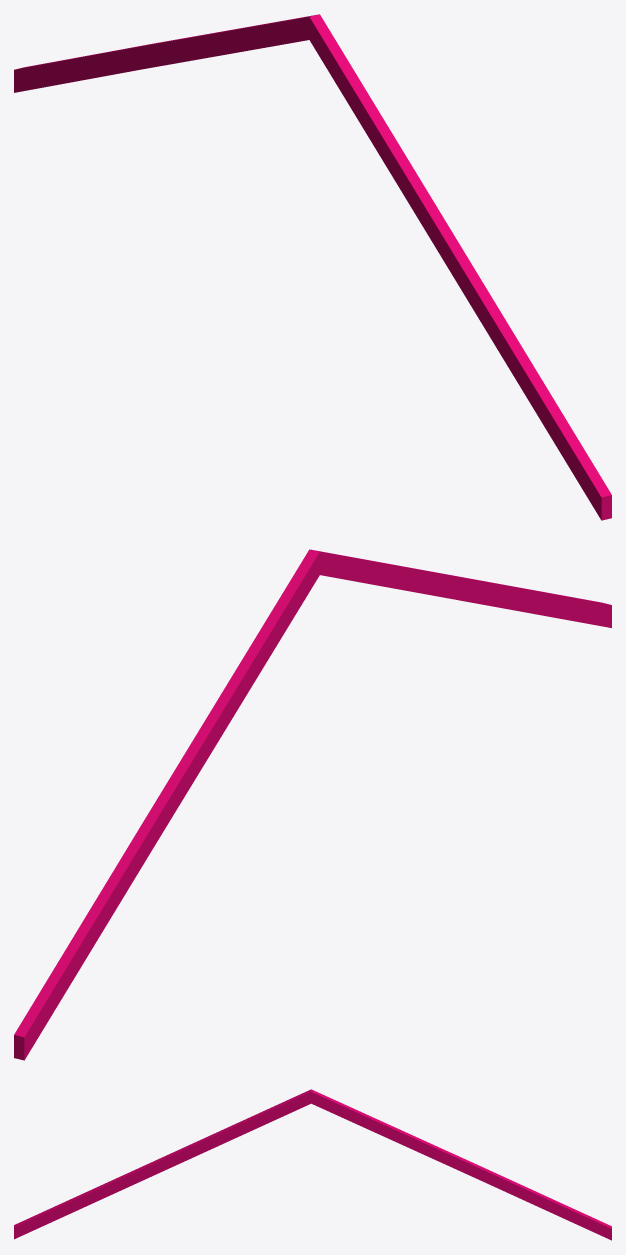
The model's file is House_Border_01.fbx.
3 views of the same model, one above another, from view 1: azimuth 30°, elevation 25°; view 2: azimuth 150°, elevation 25°; view 3: azimuth 270°, elevation 25° (orthographic). The views are drawn at different scales.
Visible parts, largest first — view 1: House_Border_01; view 2: House_Border_01; view 3: House_Border_01.
Boxes of the visible parts, box(x1,y1,x2,y2) form: House_Border_01: box(14, 14, 611, 520); House_Border_01: box(14, 549, 611, 1060); House_Border_01: box(14, 1089, 611, 1240).
Bounding box in the file's own units: 12.49 × 333 × 1213.
